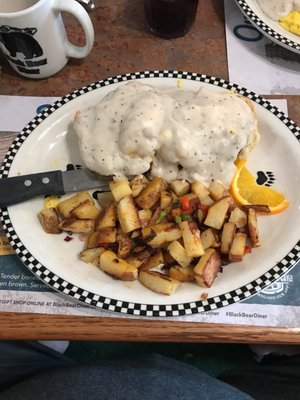pizza: (0, 0, 95, 80), (143, 0, 199, 39)
sandwich: (0, 163, 108, 209)
